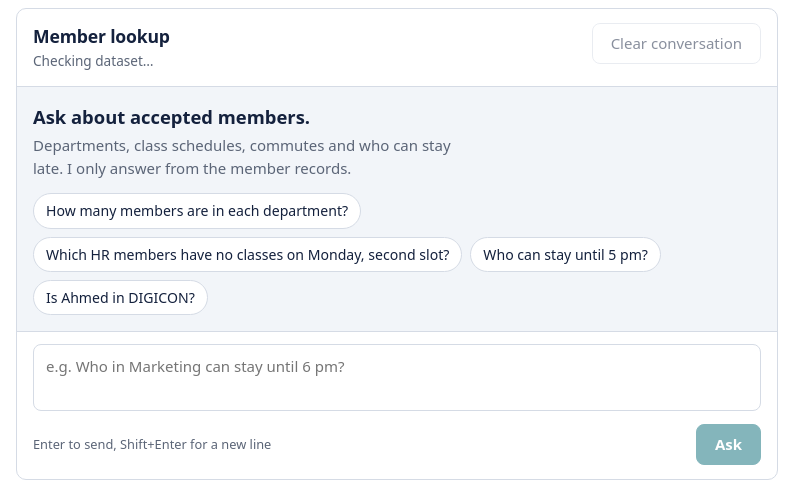
Test: MemberChat › shows a timeout state when the request takes too long
The image size is (795, 497).
In the text box named "Ask a question about members": coordinates (397, 377) [33,344,761,411], type "slow one"
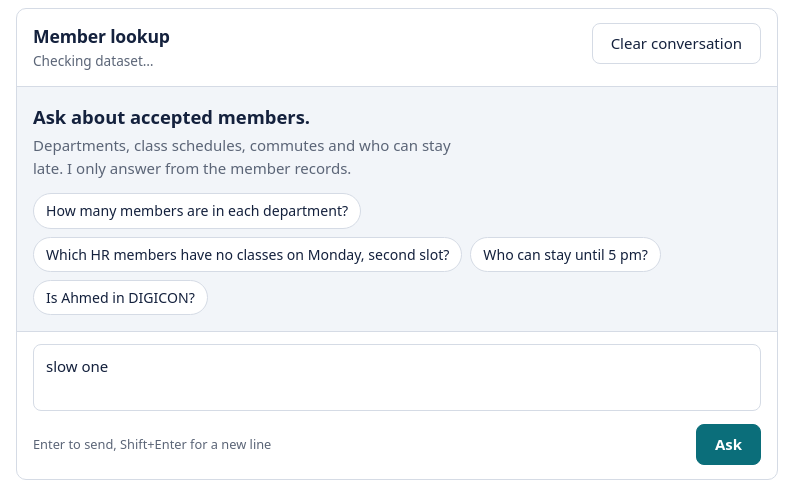
Click the button "Ask": coordinates (728, 444) [696,424,761,465]
Wait 5001 ms
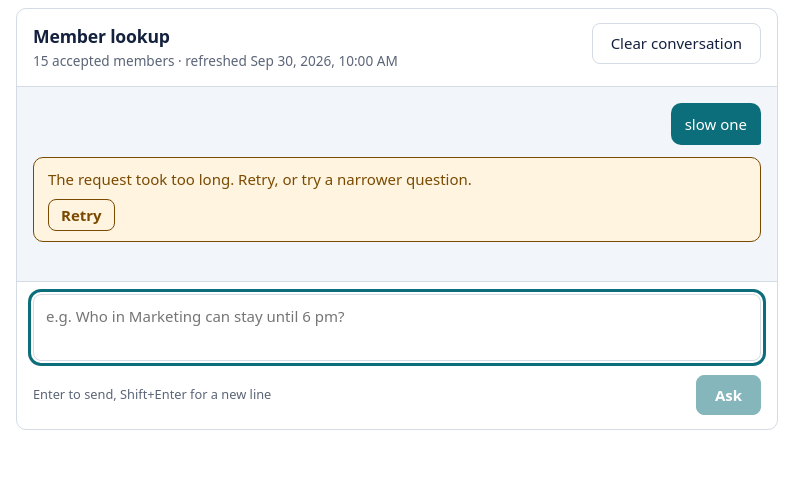
Now the message shows "took too long", box [48,169,472,189]
Now the button "Retry" is enabled, box [48,199,115,231]
